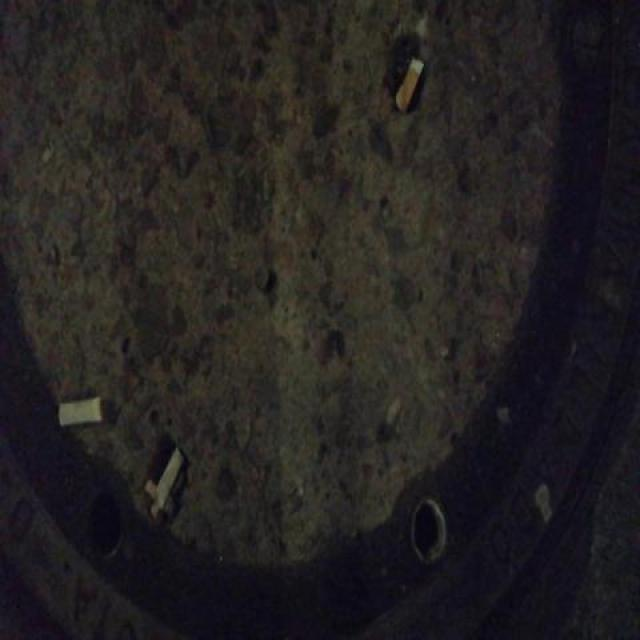non-organic waste: (151, 442, 190, 518), (391, 54, 426, 118), (55, 392, 105, 432)
